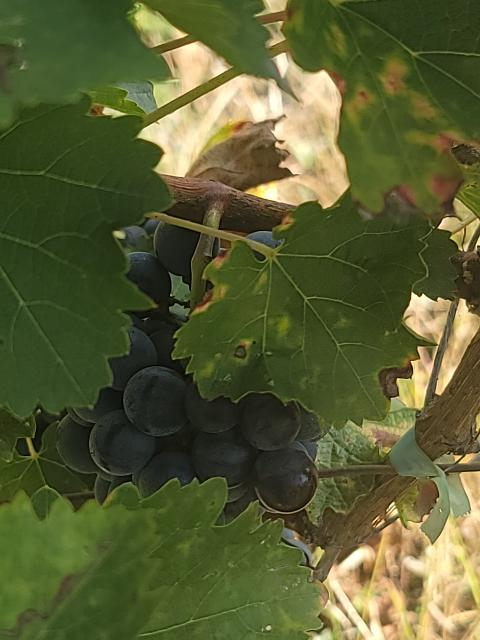grapes: (59, 221, 324, 522)
